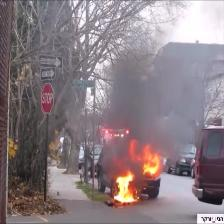fire: (113, 158, 161, 205)
smoke: (119, 65, 200, 151)
